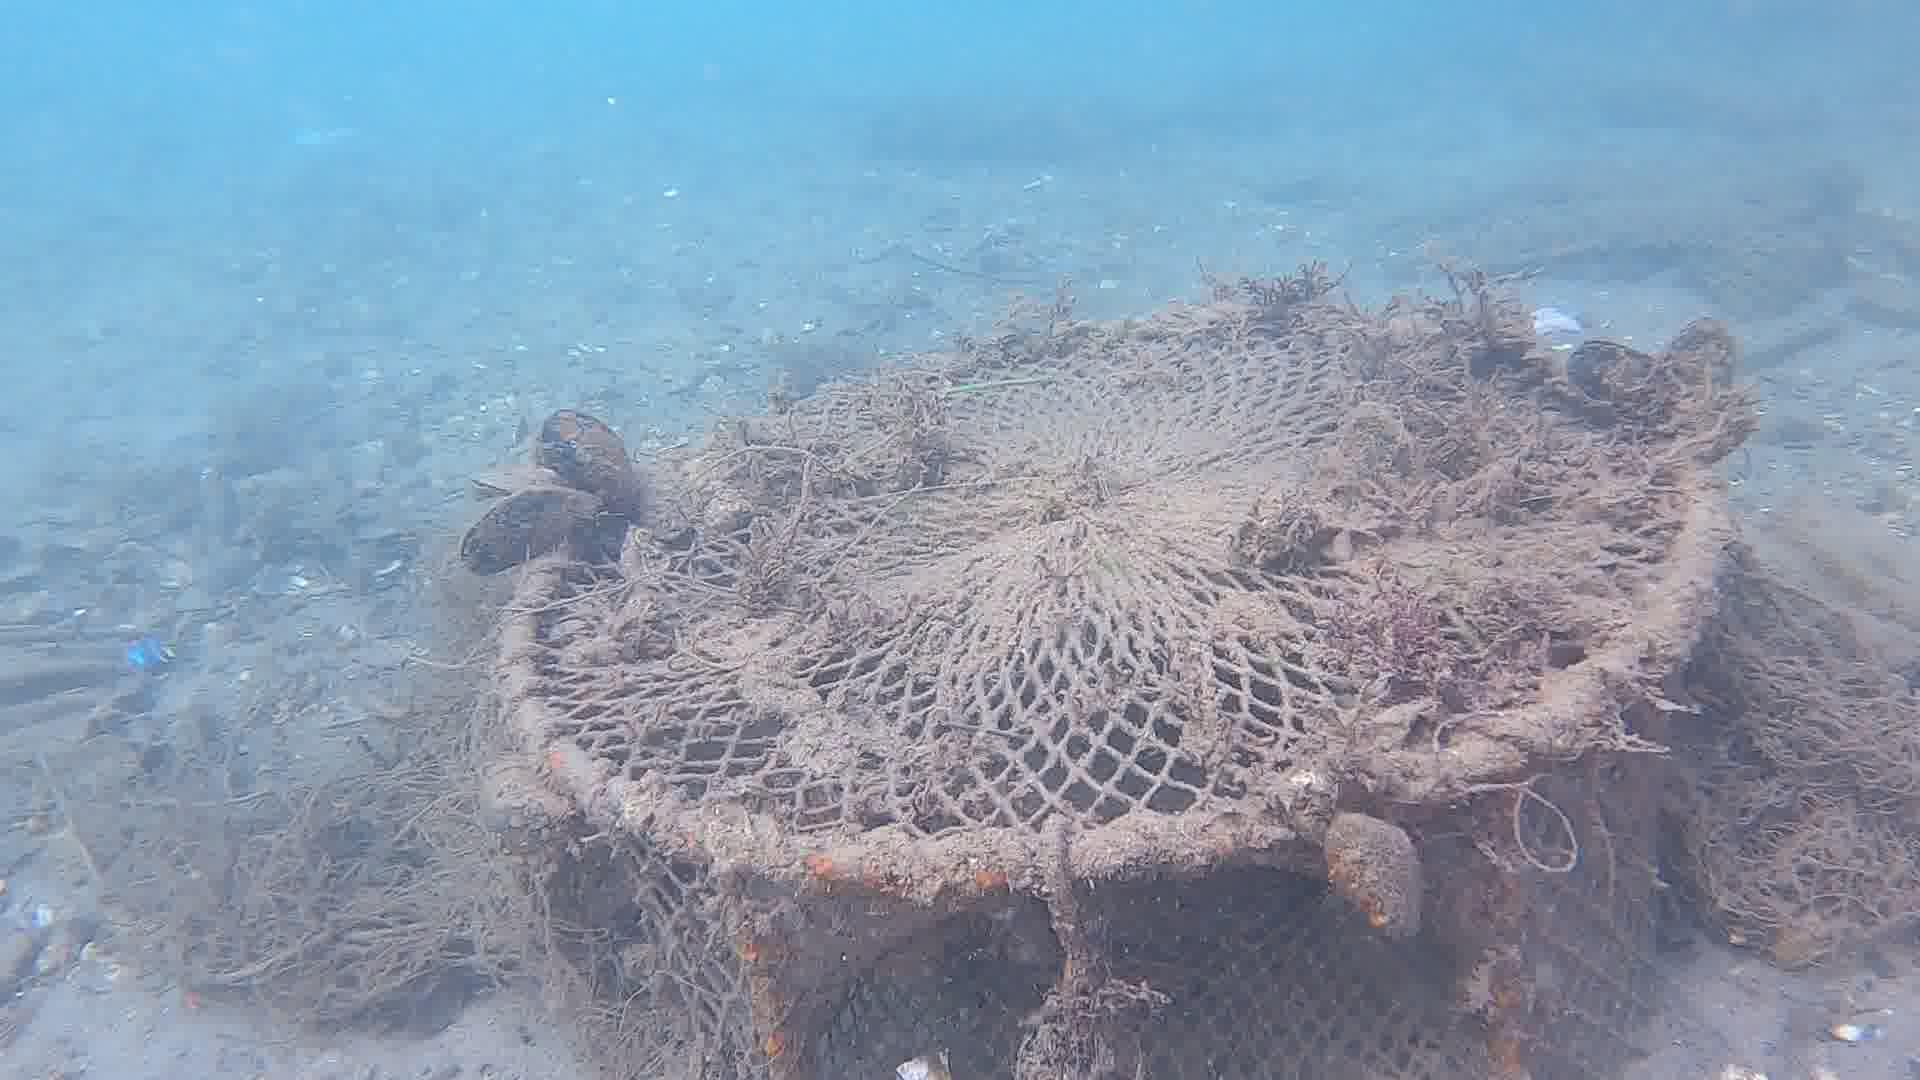circular fish trap: (491, 293, 1716, 1080)
